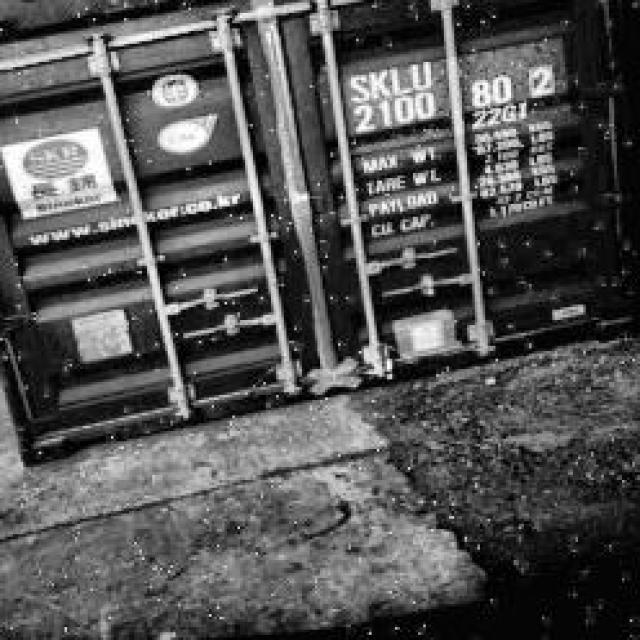ISO: (476, 104, 528, 132)
container_number: (349, 26, 562, 136)
